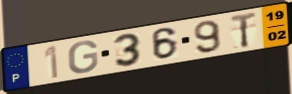1: (43, 43, 60, 81)
3: (111, 31, 144, 68)
6: (150, 27, 180, 62)
9: (192, 19, 223, 54)
G: (67, 40, 100, 75)
T: (229, 10, 258, 50)
